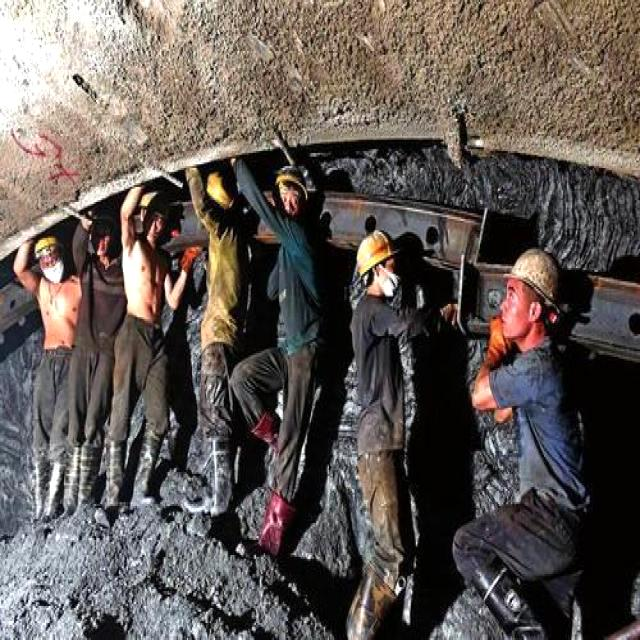hard_hat: (501, 245, 562, 318), (355, 229, 402, 278), (204, 169, 239, 218), (272, 164, 309, 206), (138, 189, 170, 224), (33, 233, 64, 259)
person: (452, 247, 589, 638), (232, 160, 323, 553), (347, 230, 422, 638), (106, 185, 188, 508), (182, 170, 248, 515), (54, 219, 124, 510), (14, 236, 81, 517)
